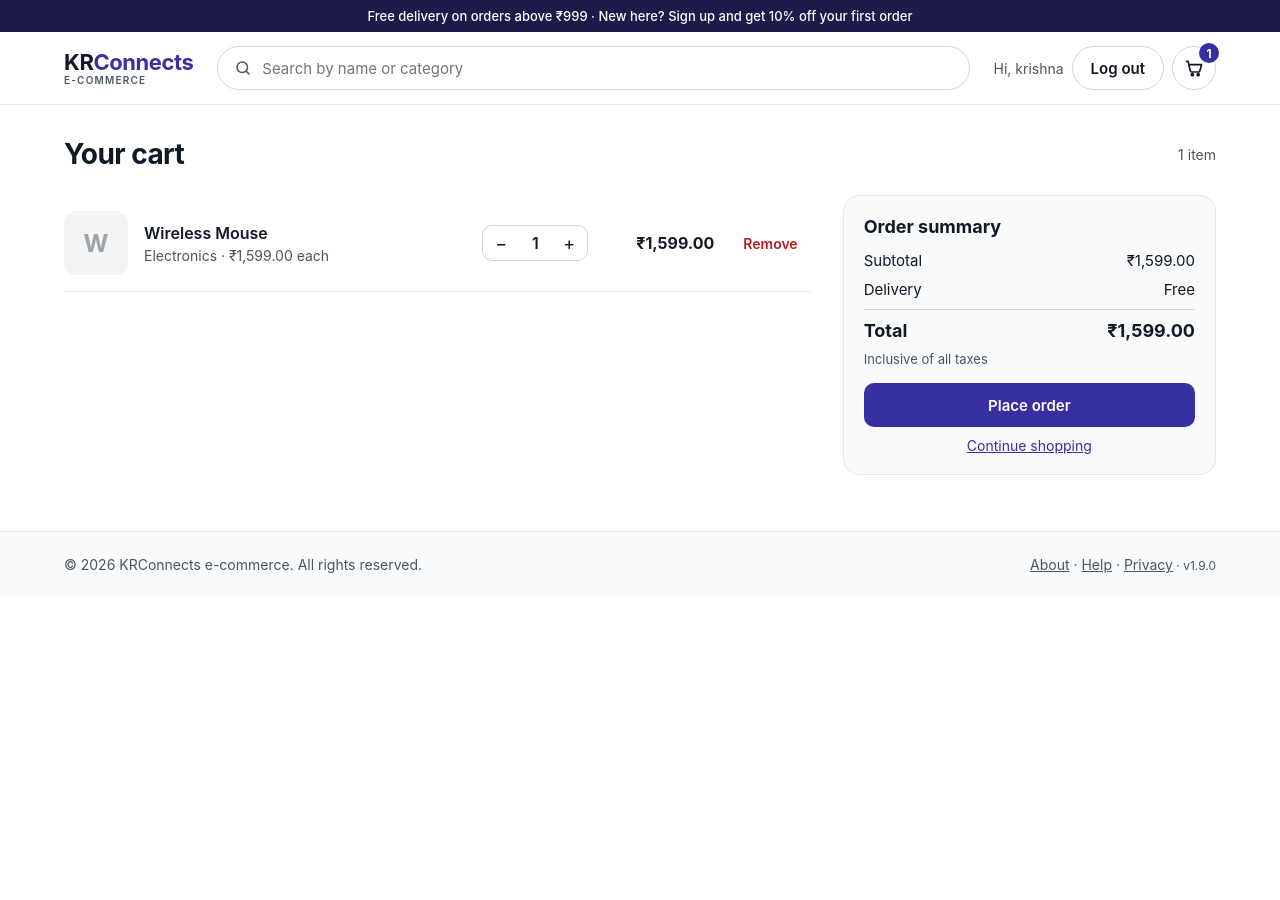
CartPage › asks to log in again when the login has expired (401)
Click the button "Place order". click: (1029, 405)
box: [864,383,1195,427]
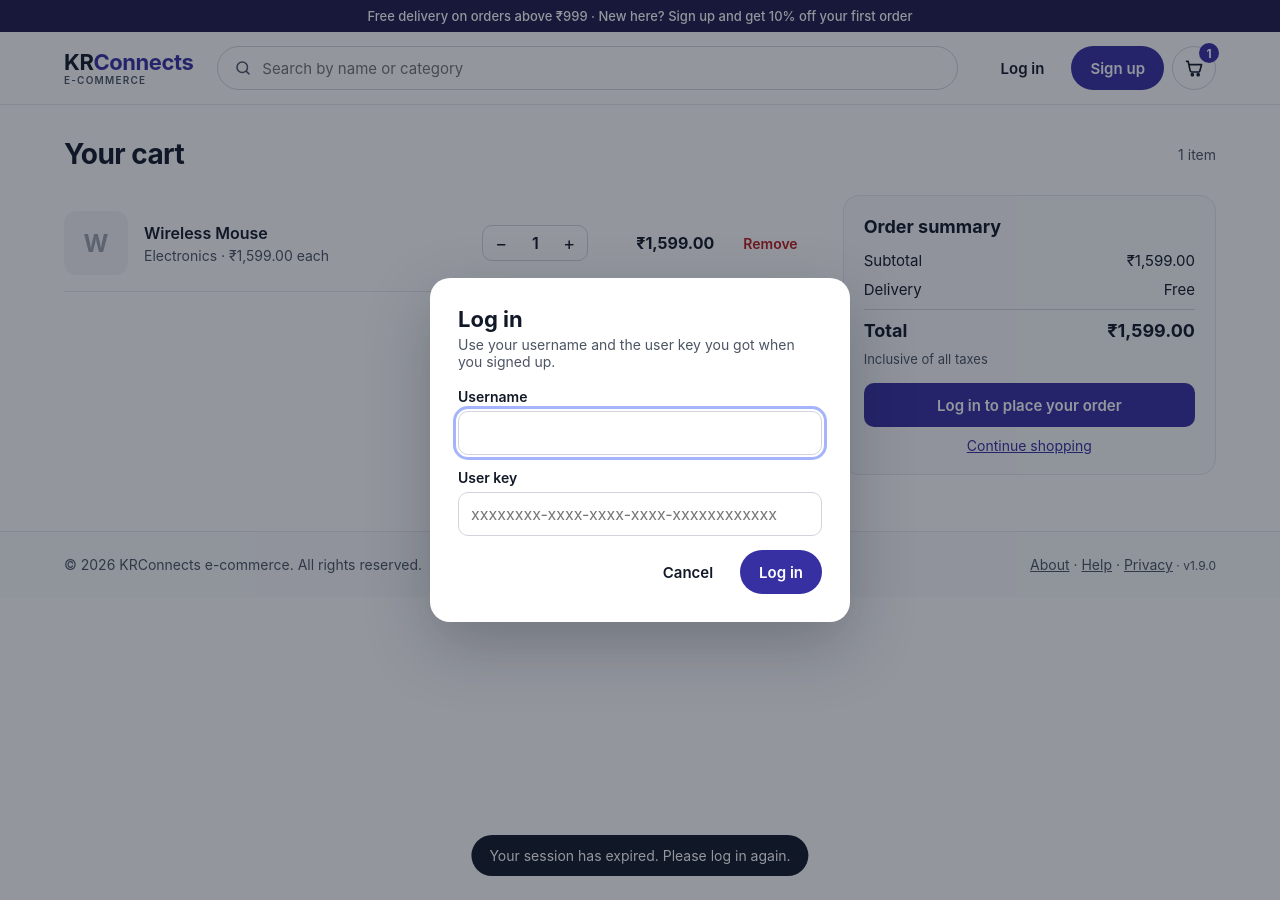
Expected: the link named "Cart, 1 items" is shown, [1172,46,1216,90]
Expected: the text "Your session has expired. Please log in again." is shown, [489,847,791,864]
